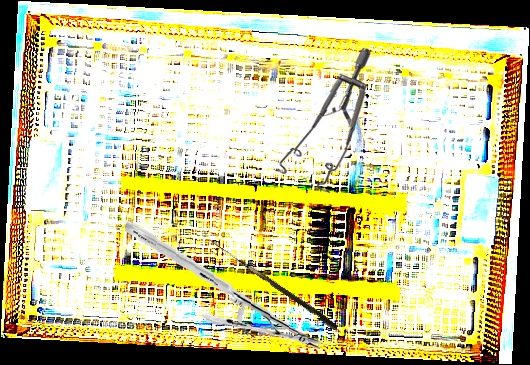Hook Surgical: (206, 240, 341, 331)
Needle Holder: (118, 219, 328, 353)
Speculum: (273, 48, 374, 194)
